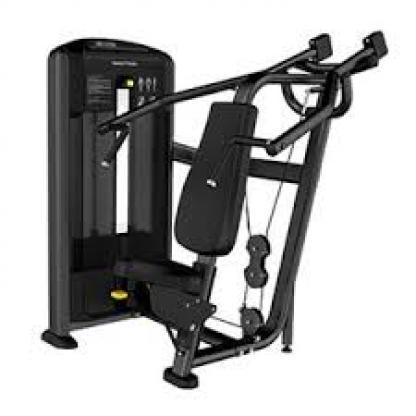shoulder press machine: (37, 17, 394, 395)
